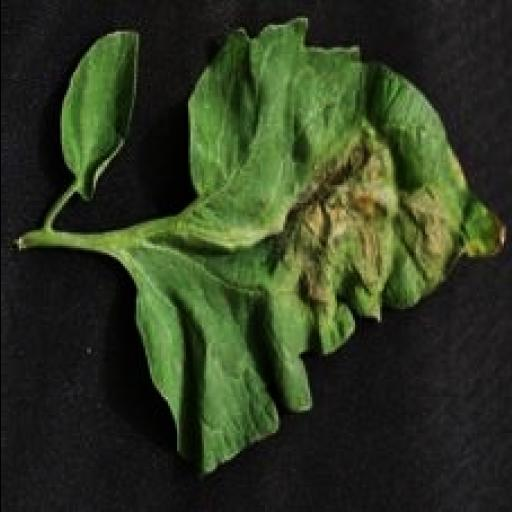disease_tomato: (36, 14, 510, 488)
